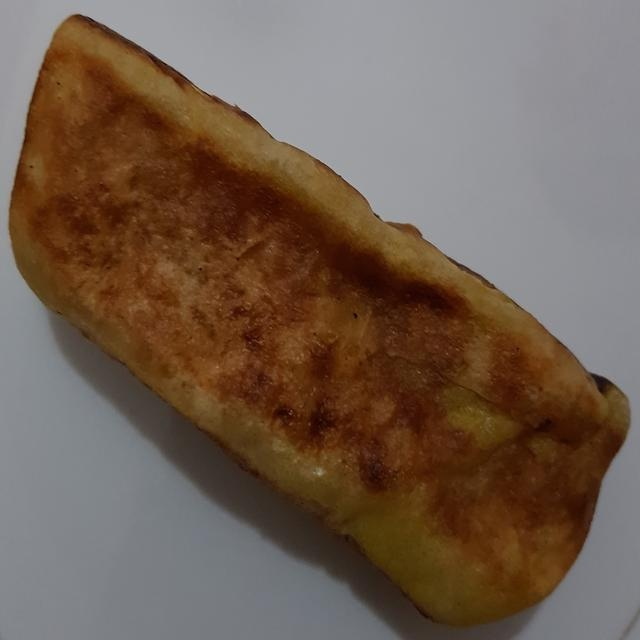Chicken Rotti: (8, 12, 631, 627)
